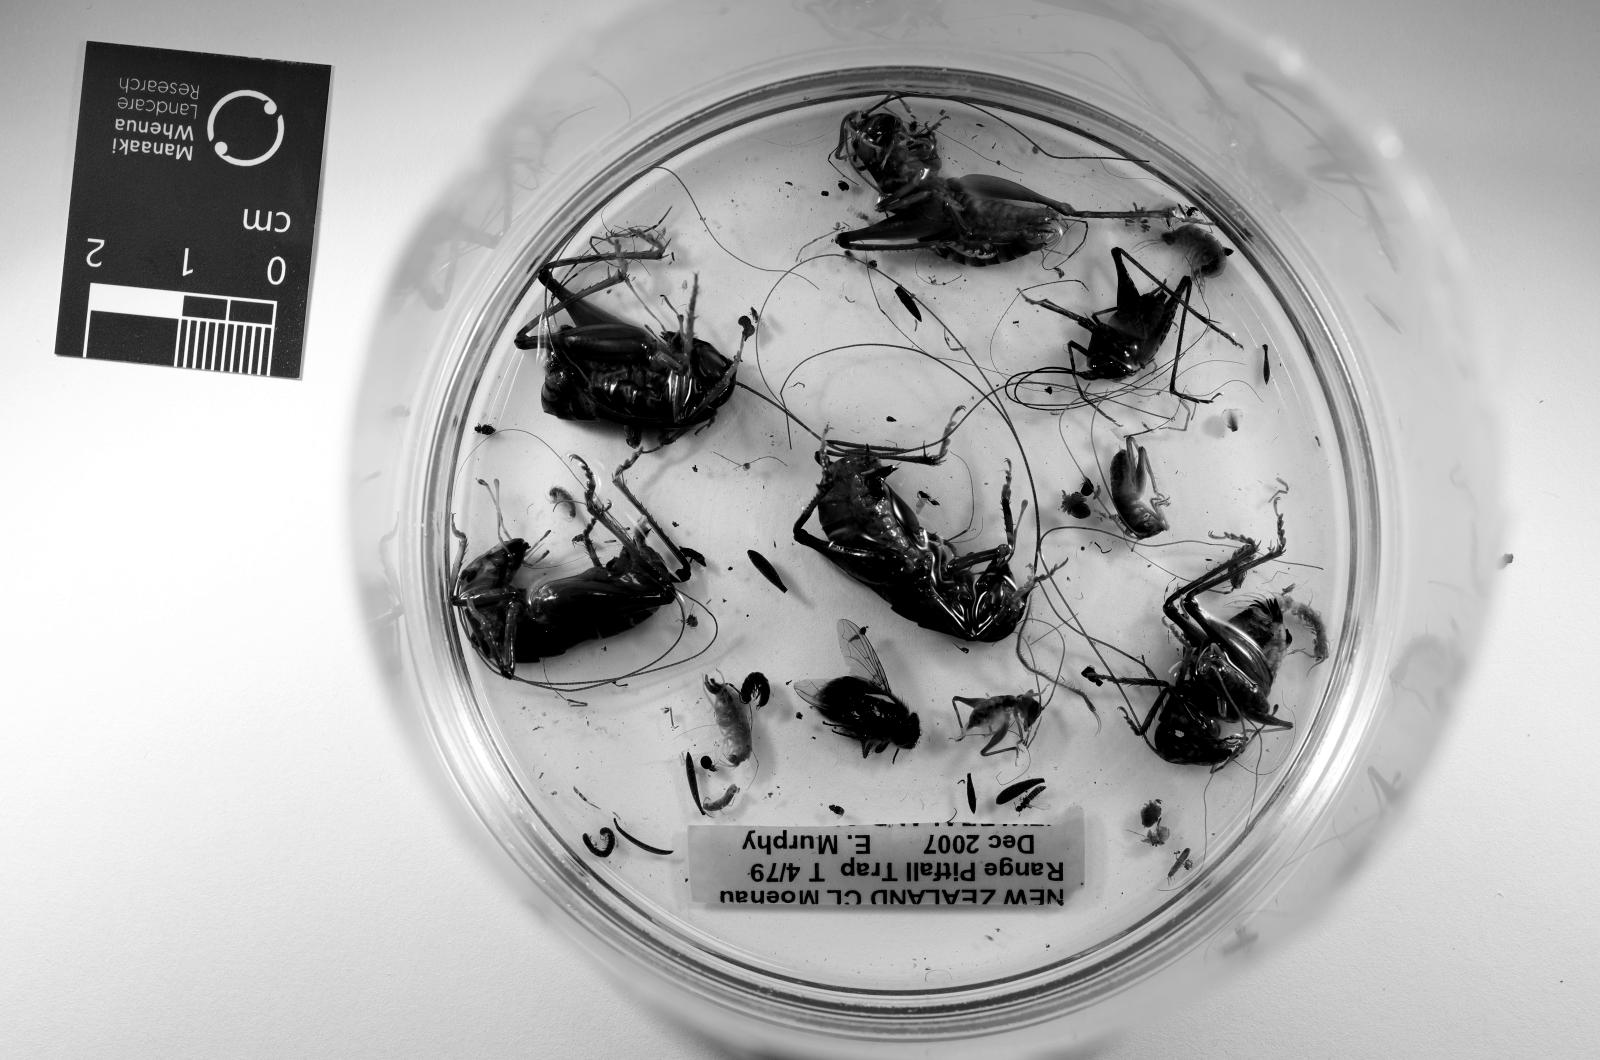acari: (700, 757, 715, 770)
amphipoda: (704, 677, 753, 767), (1162, 224, 1225, 286), (546, 487, 578, 518)
chilopoda: (1272, 587, 1328, 665)
coleoptera: (475, 422, 497, 435)
diplopoda: (582, 829, 616, 857)
diptera: (793, 621, 919, 757), (1016, 786, 1054, 814)
isopoda: (740, 671, 772, 707)
orthoptera: (835, 93, 1175, 267), (451, 453, 700, 680), (793, 413, 1035, 642), (516, 224, 753, 447), (1153, 516, 1290, 764), (1025, 248, 1212, 403), (1109, 435, 1168, 541), (953, 692, 1044, 757)
